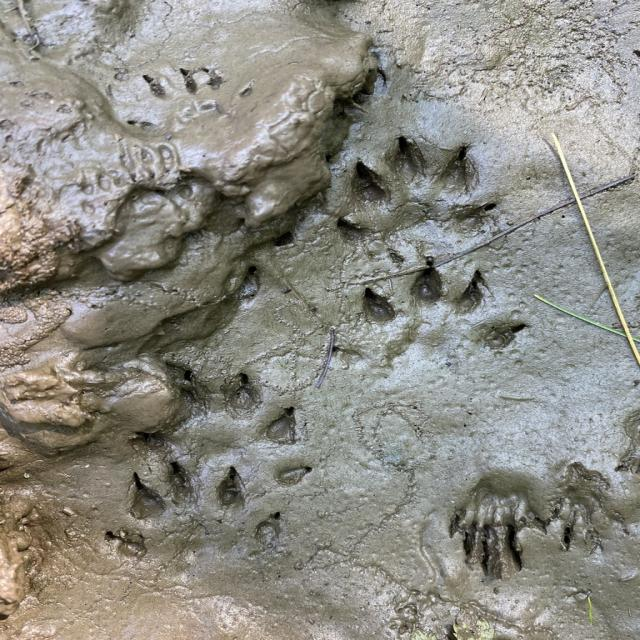mustelid: (339, 134, 503, 264), (104, 457, 278, 577), (361, 262, 520, 386)
